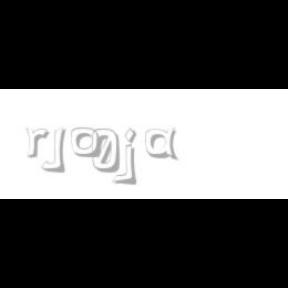0: (92, 128, 122, 174)
J: (40, 128, 66, 172)
a: (145, 128, 182, 160)
j: (122, 128, 150, 186)
o: (70, 128, 100, 158)
r: (25, 128, 52, 158)
